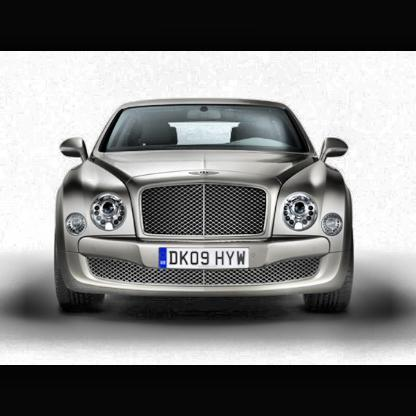Bentley Mulsanne Sedan 2011: (55, 96, 358, 320)
